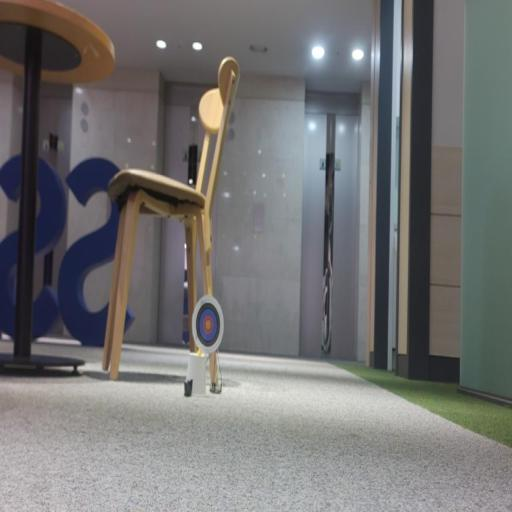target: (192, 295, 224, 351)
